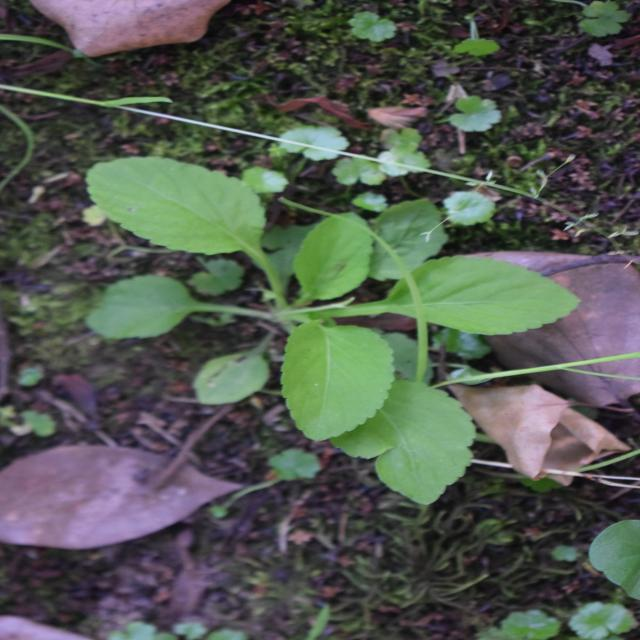Viola: (171, 65, 486, 574)
